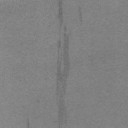red iron: (56, 0, 69, 128), (79, 6, 82, 23), (27, 119, 30, 128)
